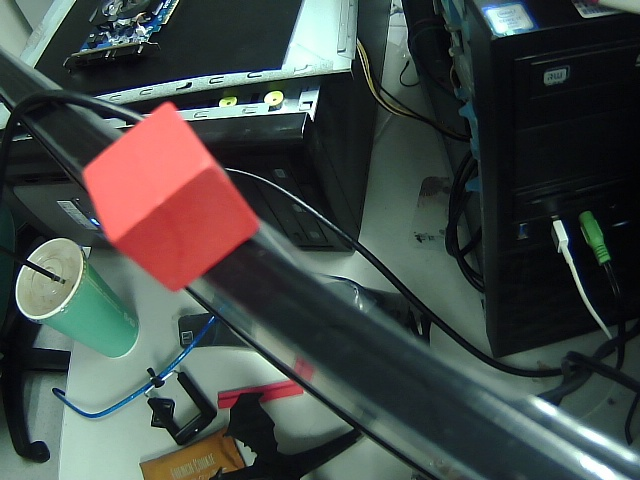redbox: (75, 99, 277, 294)
